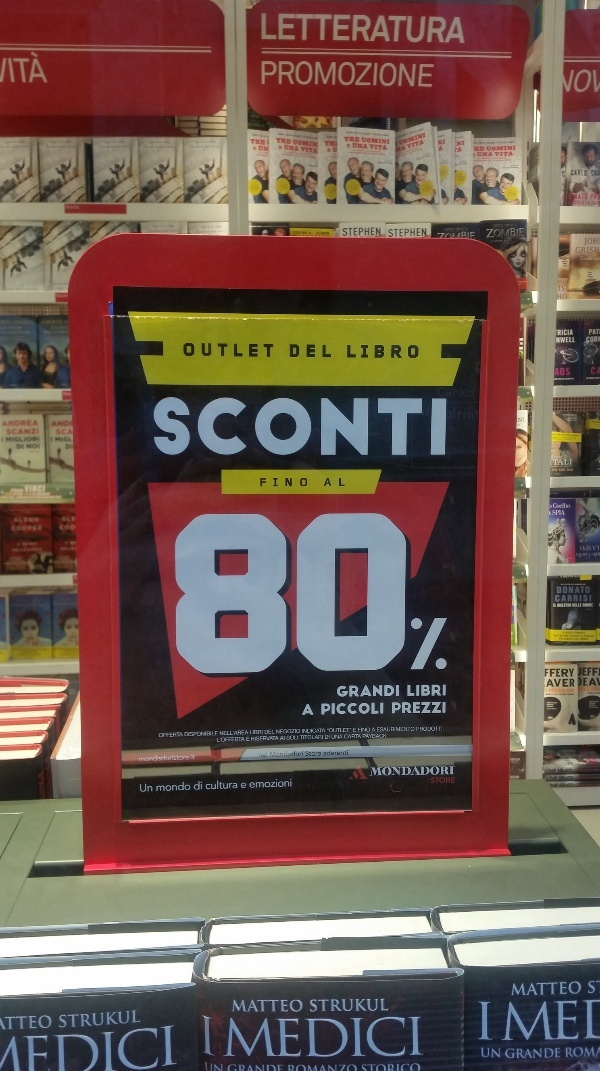text: (177, 507, 192, 683), (193, 507, 208, 683), (209, 507, 224, 683), (225, 507, 240, 683), (241, 507, 256, 683), (257, 507, 272, 683), (273, 507, 288, 683), (289, 507, 304, 683), (305, 507, 320, 683), (321, 507, 336, 683), (337, 507, 352, 683), (353, 507, 368, 683), (369, 507, 384, 683), (385, 507, 400, 683), (401, 507, 416, 683), (417, 507, 432, 683), (433, 507, 448, 683), (433, 392, 449, 463), (161, 392, 176, 463), (177, 392, 192, 463), (193, 392, 208, 463), (209, 392, 224, 463), (225, 392, 240, 463), (241, 392, 256, 463), (257, 392, 272, 463), (273, 392, 288, 463), (289, 392, 304, 463), (305, 392, 320, 463), (321, 392, 336, 463), (337, 392, 352, 463), (353, 392, 368, 463), (369, 392, 384, 463), (385, 392, 400, 463), (401, 392, 416, 463), (417, 392, 432, 463), (241, 1012, 256, 1064), (257, 1012, 272, 1064), (273, 1012, 288, 1064), (289, 1012, 304, 1064), (305, 1012, 320, 1064), (321, 1012, 336, 1064), (337, 1012, 352, 1064), (353, 1012, 368, 1064), (369, 1012, 384, 1064), (385, 1012, 400, 1064), (401, 1012, 416, 1064), (449, 507, 453, 683), (513, 999, 528, 1044), (529, 999, 544, 1044), (545, 999, 560, 1044), (561, 999, 576, 1044), (1, 1026, 16, 1071), (17, 1026, 32, 1071), (33, 1026, 48, 1071), (49, 1026, 64, 1071), (65, 1026, 80, 1071), (81, 1026, 96, 1071), (97, 1026, 112, 1071), (113, 1026, 128, 1071), (129, 1026, 144, 1071), (145, 1026, 160, 1071), (161, 1026, 176, 1071), (273, 7, 288, 50), (289, 7, 304, 50), (305, 7, 320, 50), (321, 7, 336, 50), (337, 7, 352, 50), (353, 7, 368, 50), (369, 7, 384, 50), (385, 7, 400, 50), (401, 7, 416, 50), (417, 7, 432, 50), (433, 7, 448, 50), (449, 7, 464, 50), (17, 47, 32, 90), (33, 47, 48, 90), (481, 997, 494, 1046), (273, 56, 288, 96), (289, 56, 304, 96), (305, 56, 320, 96), (321, 56, 336, 96), (337, 56, 352, 96), (353, 56, 368, 96), (369, 56, 384, 96), (385, 56, 400, 96), (401, 56, 416, 96), (417, 56, 432, 96), (577, 64, 593, 101), (229, 1012, 240, 1064), (260, 7, 272, 50), (563, 64, 576, 101), (417, 1012, 426, 1064), (261, 56, 272, 96), (154, 392, 160, 463), (582, 1000, 592, 1040), (7, 47, 16, 90), (201, 1011, 208, 1061), (209, 1011, 216, 1061), (65, 1009, 80, 1031), (81, 1009, 96, 1031), (97, 1009, 112, 1031), (113, 1009, 128, 1031), (193, 339, 208, 360), (209, 339, 224, 360), (225, 339, 240, 360), (241, 339, 256, 360), (257, 339, 272, 360), (273, 472, 288, 493), (289, 472, 304, 493), (513, 979, 528, 1000), (529, 979, 544, 1000), (545, 979, 560, 1000), (561, 979, 576, 1000), (129, 1009, 142, 1031), (305, 342, 320, 361), (321, 997, 336, 1016), (337, 997, 352, 1016), (353, 997, 368, 1016), (369, 997, 384, 1016), (593, 1000, 600, 1040), (545, 1045, 561, 1062), (209, 775, 224, 793), (577, 1044, 592, 1062), (290, 342, 304, 361), (353, 343, 368, 360), (369, 343, 384, 360), (385, 343, 400, 360), (401, 343, 416, 360), (401, 130, 416, 147), (241, 999, 256, 1016), (257, 999, 272, 1016), (273, 999, 288, 1016), (289, 999, 304, 1016), (17, 1015, 32, 1032), (33, 1015, 48, 1032), (513, 1045, 528, 1062), (529, 1045, 544, 1062), (260, 472, 272, 493), (225, 775, 239, 793), (385, 764, 400, 780), (401, 764, 416, 780), (417, 764, 432, 780), (433, 764, 448, 780), (481, 1045, 496, 1061), (337, 684, 352, 699), (353, 684, 368, 699), (369, 684, 384, 699), (385, 684, 400, 699), (337, 702, 352, 717), (353, 702, 368, 717), (369, 702, 384, 717), (417, 684, 432, 699), (145, 749, 160, 764), (161, 749, 176, 764), (177, 749, 192, 764), (449, 226, 464, 241), (370, 764, 384, 780), (322, 702, 336, 717), (433, 684, 447, 699), (401, 701, 416, 715), (417, 701, 432, 715), (321, 342, 332, 361), (309, 997, 320, 1016), (565, 1044, 576, 1062), (476, 997, 480, 1046), (497, 227, 512, 240), (161, 781, 176, 794), (257, 777, 272, 790), (273, 777, 288, 790), (5, 1015, 16, 1032), (307, 703, 320, 717), (433, 701, 446, 715), (177, 781, 191, 794), (508, 999, 512, 1044), (593, 69, 600, 94), (326, 474, 336, 491), (305, 137, 318, 150), (184, 339, 192, 360), (194, 780, 208, 792), (545, 667, 560, 678), (437, 226, 448, 241), (465, 226, 476, 241), (513, 227, 525, 240), (561, 667, 575, 678), (561, 678, 575, 689), (417, 130, 426, 147), (337, 474, 346, 491), (353, 227, 368, 237), (401, 228, 416, 238), (481, 143, 496, 153), (497, 143, 512, 153), (369, 136, 384, 146), (433, 776, 448, 786), (561, 594, 576, 604), (577, 594, 592, 604), (577, 246, 592, 256), (17, 515, 32, 525), (293, 137, 304, 150), (579, 666, 592, 677), (407, 684, 416, 699), (193, 730, 208, 739), (273, 750, 288, 759), (241, 782, 256, 791), (577, 999, 580, 1044), (561, 585, 576, 594), (17, 427, 32, 436), (17, 443, 32, 452), (17, 524, 32, 533), (548, 678, 560, 689), (369, 227, 382, 237), (486, 227, 496, 240), (561, 328, 574, 338), (465, 7, 468, 50), (561, 336, 577, 344), (306, 750, 320, 759), (289, 750, 303, 759), (388, 228, 400, 238), (276, 136, 288, 146), (161, 731, 176, 739), (225, 736, 240, 744), (305, 727, 320, 735), (305, 734, 320, 742), (417, 726, 432, 734), (385, 726, 400, 734), (337, 727, 352, 735), (577, 551, 592, 559), (17, 419, 32, 427), (17, 436, 32, 444), (505, 1045, 512, 1062), (259, 751, 272, 760), (577, 585, 590, 594), (579, 544, 592, 553), (33, 485, 46, 494), (392, 701, 400, 715), (401, 726, 415, 734), (59, 1009, 64, 1031), (561, 367, 571, 378), (577, 168, 588, 178), (324, 139, 336, 148), (324, 749, 336, 758), (561, 458, 573, 467), (225, 730, 240, 737), (257, 736, 272, 743), (369, 733, 384, 740), (577, 979, 582, 1000), (234, 999, 240, 1016), (417, 228, 427, 238), (438, 137, 448, 147), (65, 523, 75, 533), (337, 749, 348, 758), (577, 192, 588, 201), (354, 727, 368, 734), (562, 171, 576, 178), (276, 728, 288, 736), (289, 728, 301, 736), (449, 764, 455, 780), (4, 419, 16, 427), (385, 997, 390, 1016), (343, 227, 352, 237), (209, 730, 219, 739), (561, 603, 576, 609), (577, 603, 592, 609), (583, 677, 592, 687), (33, 524, 43, 533), (344, 133, 352, 144), (145, 783, 153, 794), (433, 726, 444, 734), (53, 420, 64, 428), (49, 47, 51, 90), (347, 343, 352, 360), (7, 427, 16, 436), (433, 56, 435, 96), (588, 979, 592, 999), (561, 502, 571, 510), (584, 237, 592, 247), (6, 436, 16, 444), (250, 777, 256, 790), (353, 133, 360, 144), (325, 734, 336, 741), (257, 138, 266, 146), (327, 727, 336, 735), (55, 436, 64, 444), (24, 485, 32, 494), (457, 138, 464, 148), (246, 736, 256, 743), (449, 776, 456, 786), (571, 712, 576, 726), (33, 515, 40, 525), (49, 1015, 53, 1032), (373, 727, 384, 733), (497, 1045, 501, 1061), (552, 509, 560, 517), (56, 428, 64, 436), (65, 428, 73, 436), (65, 436, 73, 444), (305, 472, 308, 493), (185, 730, 192, 739), (289, 735, 298, 742), (353, 734, 362, 741), (359, 727, 368, 734), (553, 458, 560, 467), (593, 169, 600, 178), (569, 192, 576, 201), (33, 427, 40, 436), (474, 143, 480, 153), (362, 136, 368, 146), (140, 749, 144, 764), (593, 979, 596, 999), (593, 246, 599, 256), (177, 731, 184, 739), (241, 730, 249, 737), (281, 734, 288, 742), (377, 726, 384, 734), (344, 734, 352, 741), (553, 502, 560, 510), (593, 551, 600, 559), (561, 284, 568, 292), (33, 419, 40, 427), (33, 443, 40, 451), (33, 436, 40, 444), (593, 666, 598, 677), (555, 367, 560, 378), (205, 775, 208, 793), (593, 1044, 596, 1062), (593, 328, 599, 337), (561, 292, 567, 301), (385, 136, 390, 146), (555, 594, 560, 604), (593, 677, 598, 687), (593, 237, 598, 247), (571, 168, 576, 178), (59, 523, 64, 533), (265, 729, 272, 736), (273, 736, 280, 743), (593, 545, 600, 552), (250, 138, 256, 146), (218, 736, 224, 744), (586, 336, 592, 344), (26, 443, 32, 451), (65, 516, 71, 524), (193, 749, 196, 764), (11, 524, 16, 533), (177, 1026, 178, 1071), (140, 783, 144, 794), (273, 339, 275, 360), (250, 729, 256, 736), (257, 729, 263, 736), (337, 734, 343, 741), (553, 603, 560, 609), (241, 736, 246, 744), (321, 727, 326, 735), (561, 509, 566, 517), (593, 336, 598, 344), (65, 420, 70, 428), (157, 781, 160, 794), (289, 777, 292, 790), (588, 328, 592, 337), (251, 736, 256, 743), (363, 733, 368, 740), (417, 343, 419, 360), (593, 366, 596, 377), (300, 734, 304, 742), (556, 336, 560, 344), (593, 193, 597, 201), (513, 143, 516, 153), (557, 328, 560, 338), (220, 730, 224, 737), (385, 733, 389, 740), (332, 734, 336, 741), (557, 585, 560, 594), (557, 292, 560, 301), (61, 516, 64, 524), (590, 366, 592, 377), (273, 729, 276, 736), (289, 136, 291, 146), (14, 515, 16, 525), (270, 750, 272, 759), (399, 130, 400, 147), (302, 727, 304, 735), (321, 734, 323, 742), (590, 193, 592, 201), (369, 727, 371, 734), (431, 776, 432, 786), (575, 246, 576, 256), (591, 169, 592, 178), (159, 731, 160, 739), (559, 284, 560, 292), (287, 735, 288, 742), (593, 603, 594, 609)
